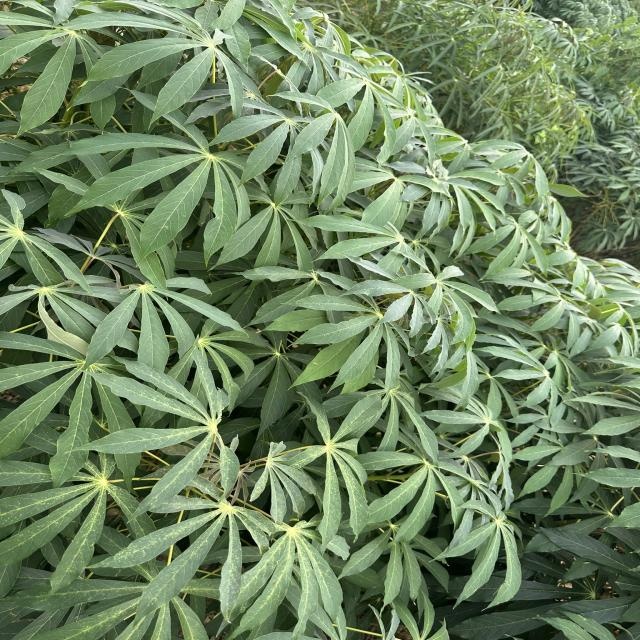Mosca: (233, 82, 257, 104), (74, 63, 92, 91), (380, 523, 406, 542)
